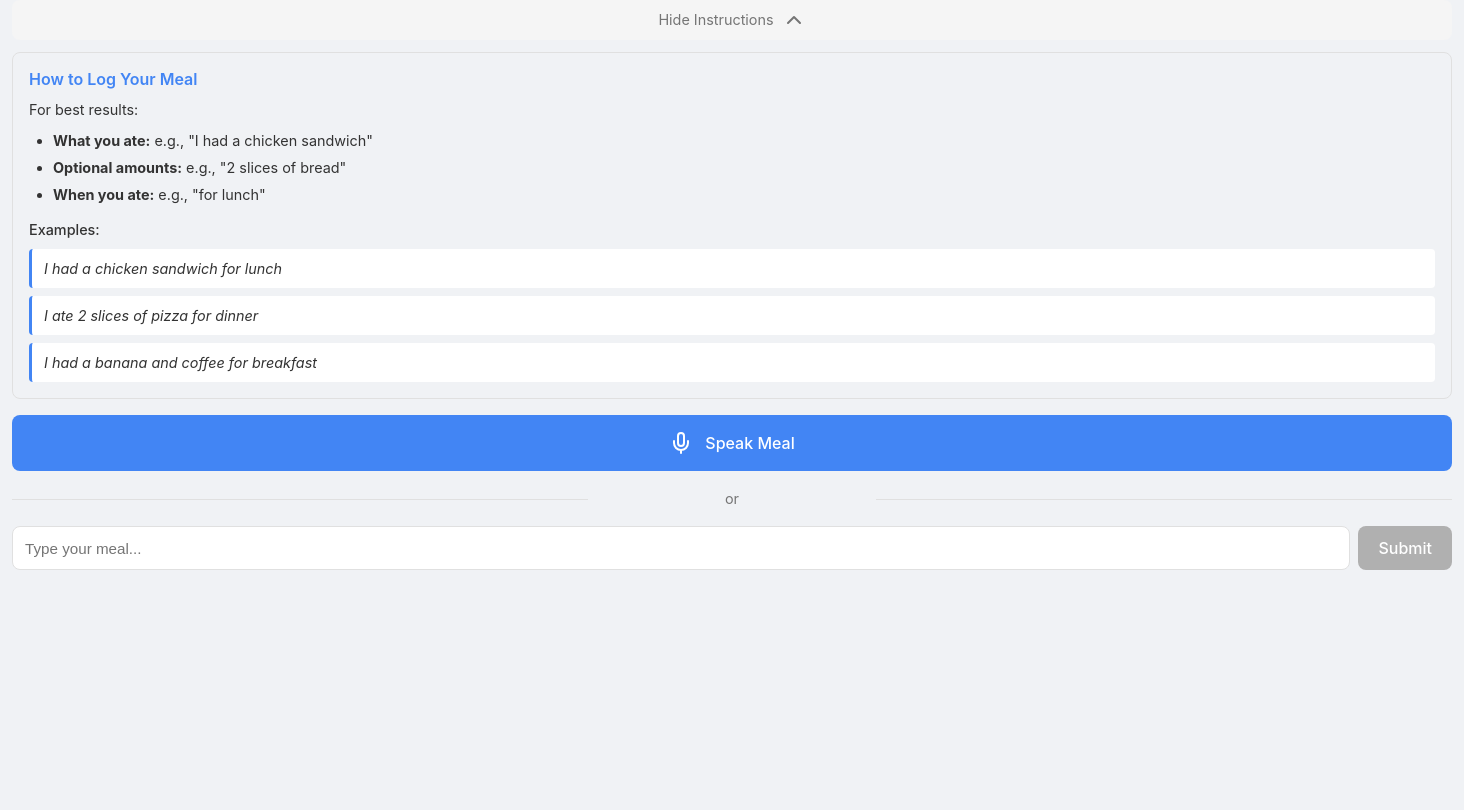
Test: VoiceRecorder › toggles instructions when clicked
Click the element with class "instruction-toggle": (732, 20) [12,0,1452,40]
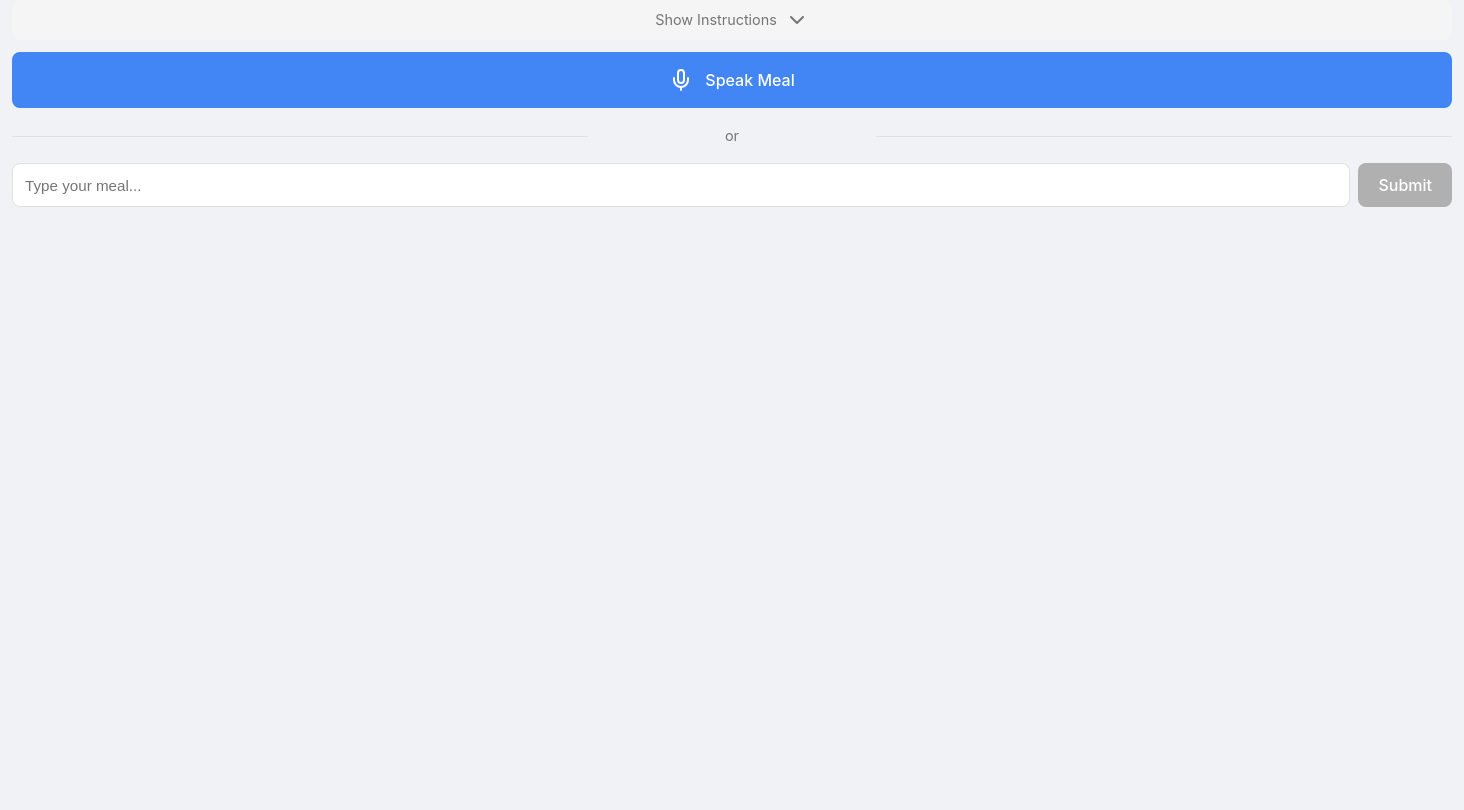
Click the element with class "instruction-toggle": (732, 20) [12,0,1452,40]
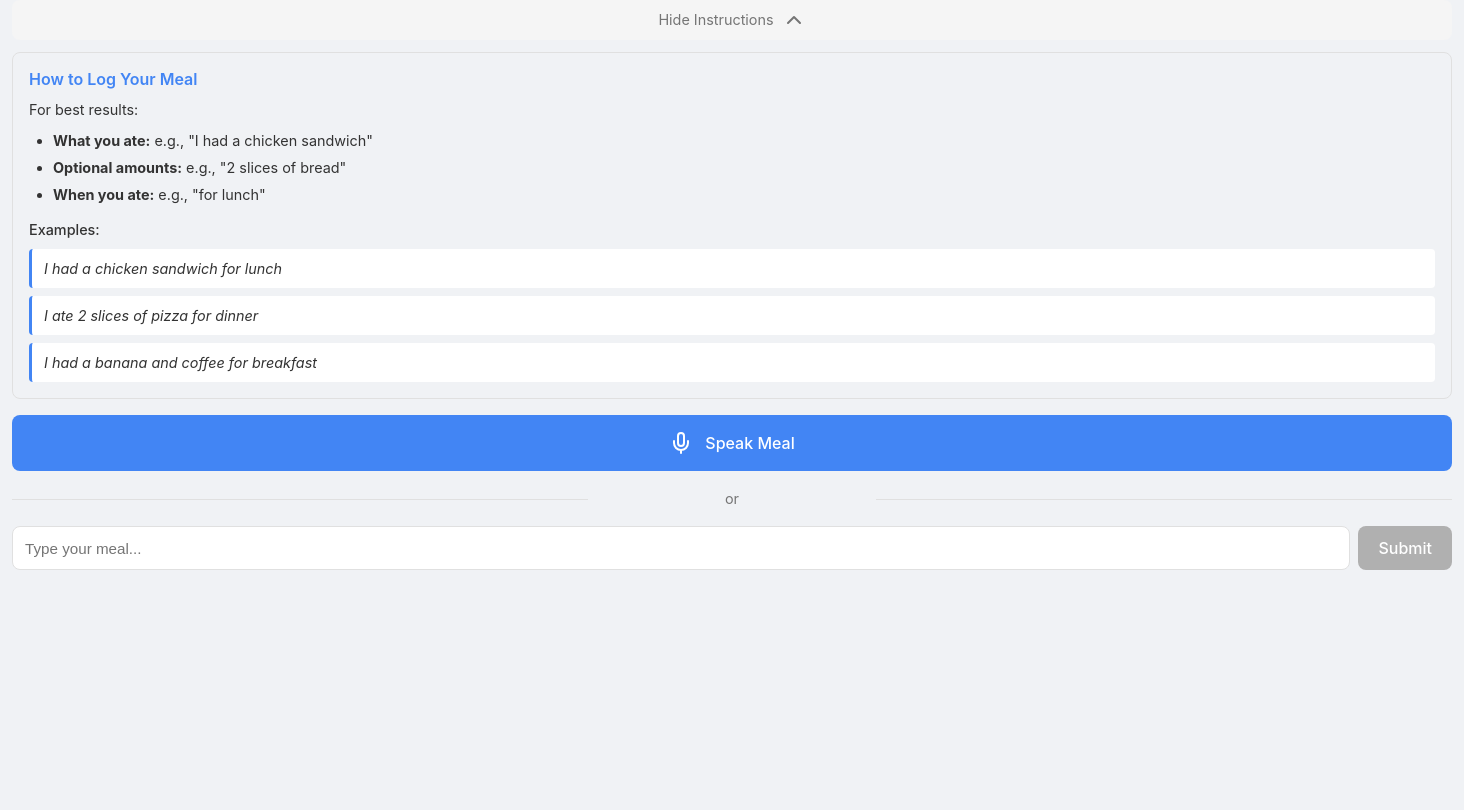
Result: the element with class "instruction-card" is shown at [12,52,1452,399]
